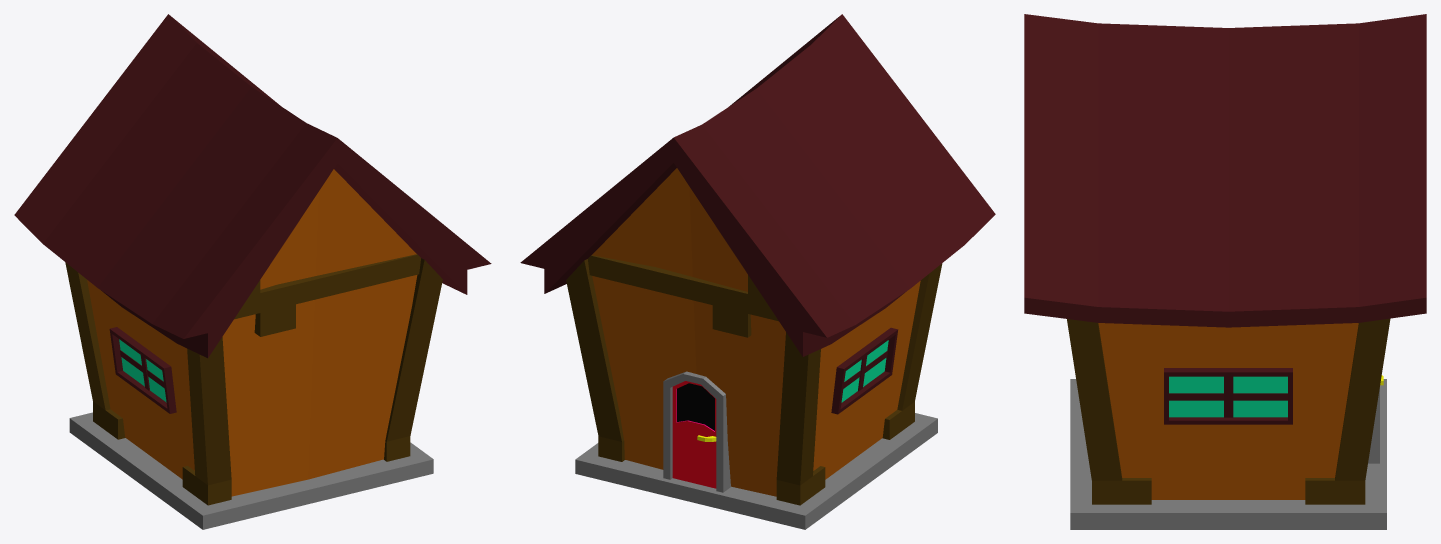
Rendered from CasaPequena.fbx.
3 views of the same model, side by side, from view 1: azimuth 30°, elevation 25°; view 2: azimuth 150°, elevation 25°; view 3: azimuth 270°, elevation 25° (orthographic). The views are drawn at different scales.
Visible parts, largest first — view 1: CasaPequena; view 2: CasaPequena; view 3: CasaPequena.
Part boxes in pixels (x1=…): CasaPequena: x1=14, y1=14, x2=491, y2=529; CasaPequena: x1=520, y1=14, x2=995, y2=529; CasaPequena: x1=1024, y1=14, x2=1426, y2=529.
Size of the model in its own units: 679 by 796 by 646.
